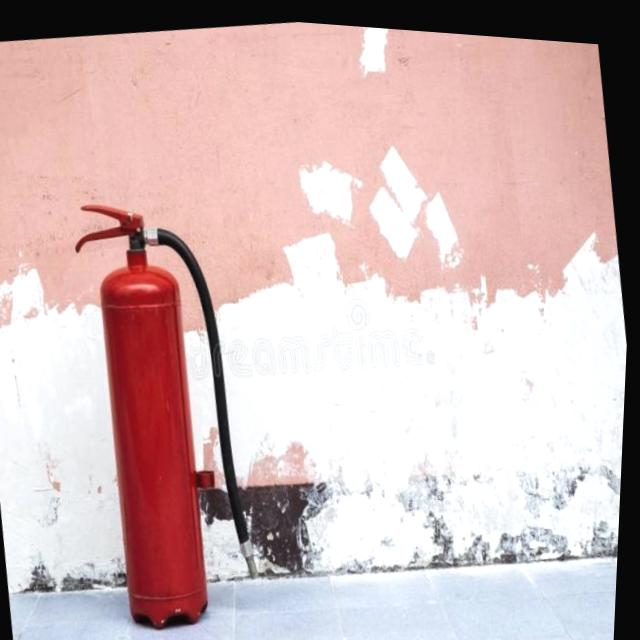FireExtinguisher: (54, 178, 287, 640)
